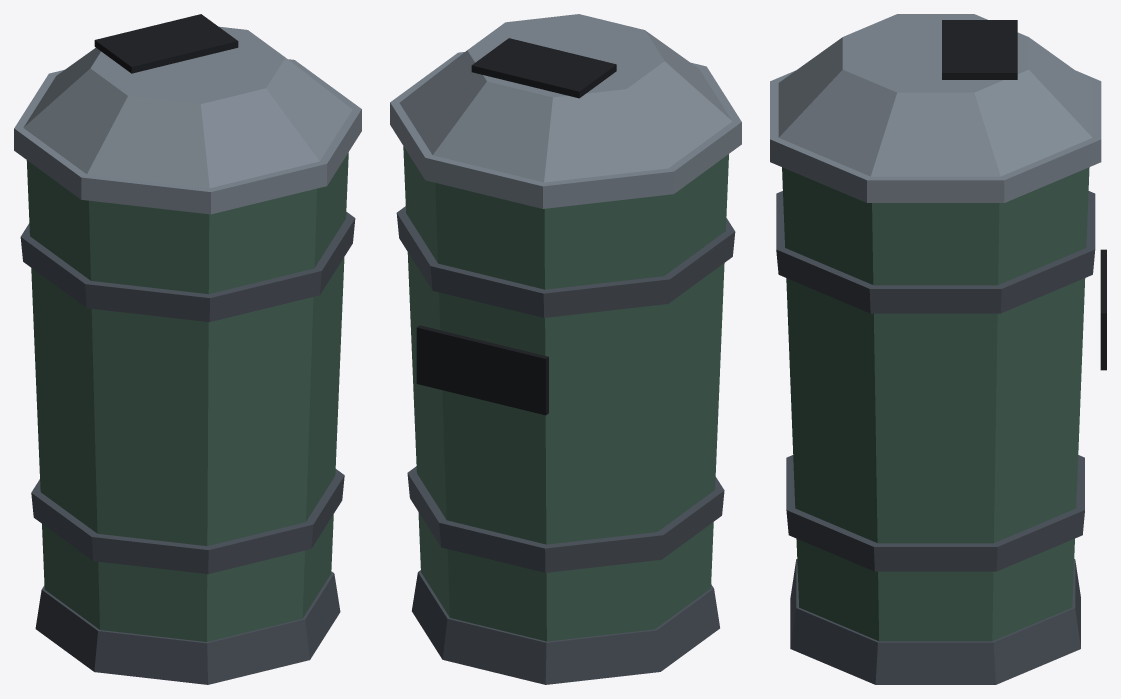
File: trash_bin.glb
3 renders of one model, left to right at view 1: azimuth 30°, elevation 25°; view 2: azimuth 150°, elevation 25°; view 3: azimuth 270°, elevation 25°, orthographic. The views are drawn at different scales.
Visible parts, largest first — view 1: Body; view 2: Body; view 3: Body.
Boxes of the visible parts, <box> form: Body: <box>14,14,361,684</box>; Body: <box>390,14,741,684</box>; Body: <box>770,14,1106,684</box>.
Bounding box in the file's own units: 0.5266 × 1.01 × 0.5353.
